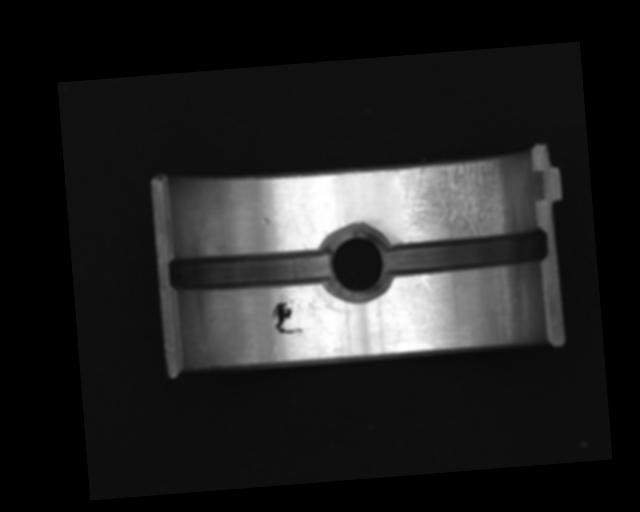blot: (269, 297, 305, 337)
bruise: (261, 216, 270, 225)
gap: (165, 243, 333, 296), (383, 229, 551, 275)
hole: (319, 221, 398, 304)
nick: (417, 273, 432, 292)
scratch: (393, 157, 516, 244)
